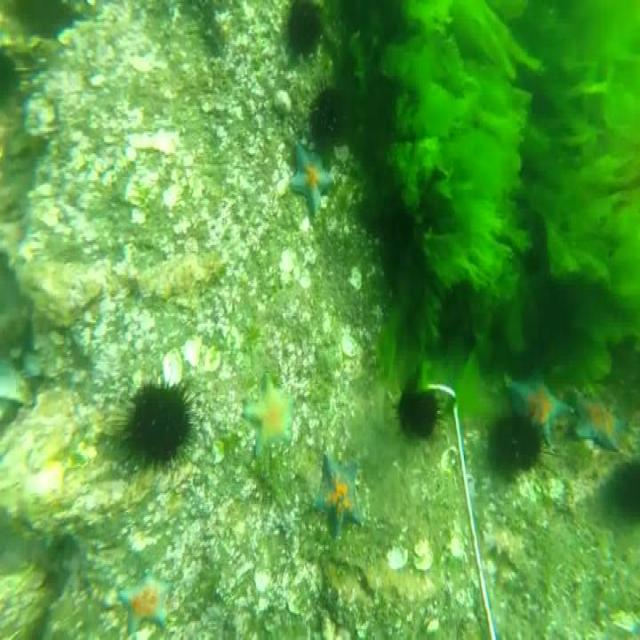echinus: (119, 378, 198, 478), (490, 409, 548, 466), (399, 378, 442, 438), (280, 0, 323, 55), (604, 455, 640, 517), (308, 84, 342, 144)
scallop: (185, 332, 204, 370), (162, 349, 180, 389), (414, 539, 435, 572), (441, 447, 460, 473), (387, 548, 408, 569), (342, 333, 358, 359), (451, 536, 465, 559)
starfish: (506, 363, 574, 441), (242, 367, 297, 458), (290, 134, 338, 220), (570, 384, 625, 452), (316, 455, 362, 536), (119, 569, 172, 637)
